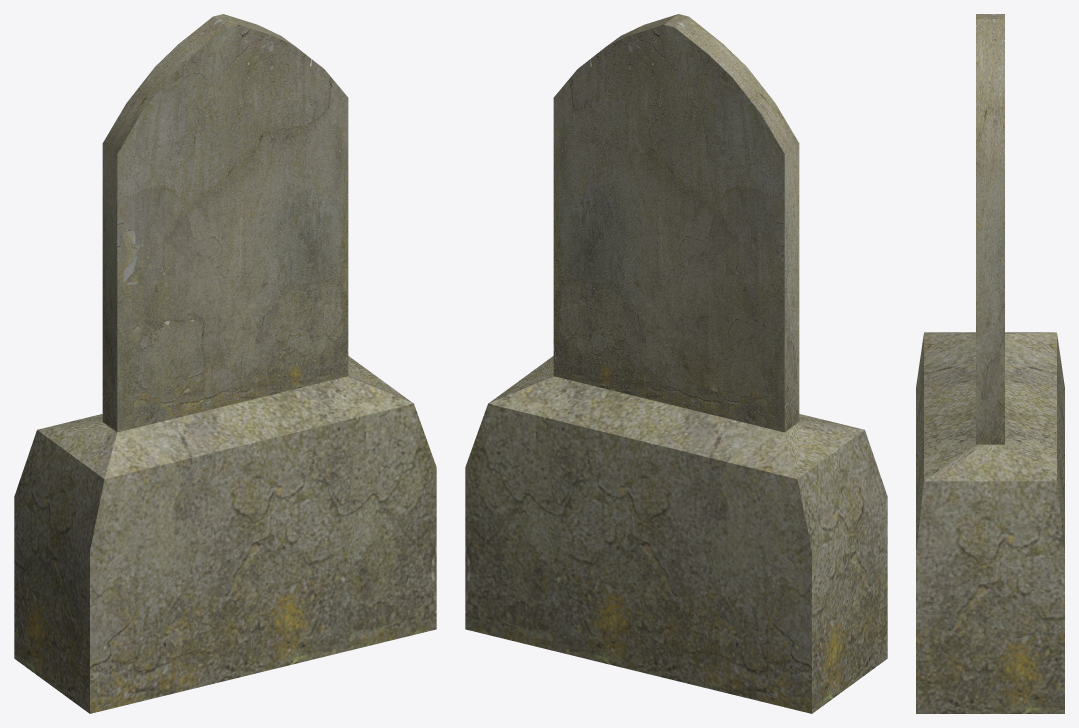
The model's file is Headstone_07.fbx.
3 renders of one model, left to right at view 1: azimuth 30°, elevation 25°; view 2: azimuth 150°, elevation 25°; view 3: azimuth 270°, elevation 25°, orthographic.
Parts seen in each view (by area): view 1: headstone7; view 2: headstone7; view 3: headstone7.
Boxes of the visible parts, box(x1,y1,x2,y2) form: headstone7: box(14, 14, 436, 713); headstone7: box(465, 14, 887, 713); headstone7: box(916, 14, 1064, 713).
Size of the model in its own units: 1.12 by 1.92 by 0.4219.
